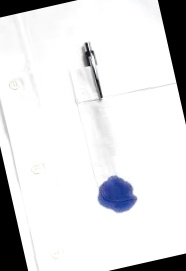ink: (94, 173, 139, 216)
